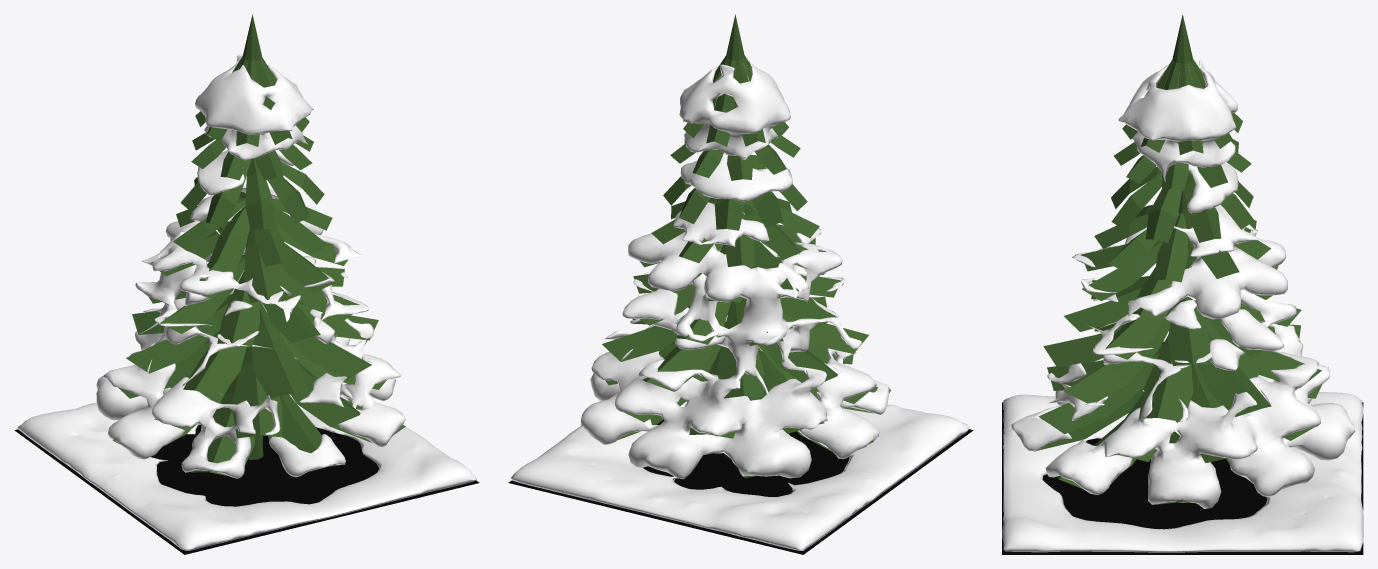
File: Tree_S10P3.glb
3 renders of one model, left to right at view 1: azimuth 30°, elevation 25°; view 2: azimuth 150°, elevation 25°; view 3: azimuth 270°, elevation 25°, orthographic. The views are drawn at different scales.
Parts seen in each view (by area): view 1: SnowMesh, Fir_Tree, Plane; view 2: SnowMesh, Fir_Tree, Plane; view 3: SnowMesh, Fir_Tree, Plane.
Part boxes in pixels (x1,y1,x2,y2): SnowMesh: (17,54,476,550); Fir_Tree: (112,14,405,475); Plane: (14,425,479,554); SnowMesh: (511,61,969,550); Fir_Tree: (581,14,890,478); Plane: (508,419,973,554); SnowMesh: (1002,60,1363,552); Fir_Tree: (1034,15,1322,504); Plane: (1002,402,1363,554).
Bounding box in the file's own units: 4 × 5.73 × 4.01.
